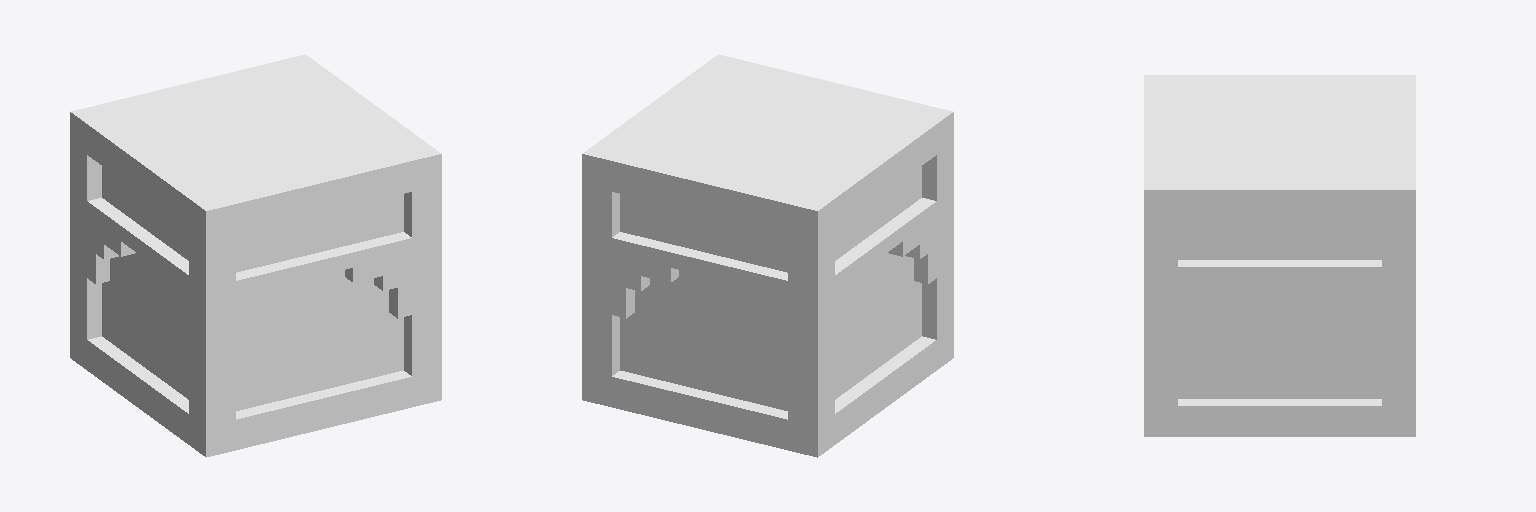
Rendered from single.obj.
3 views of the same model, side by side, from view 1: azimuth 30°, elevation 25°; view 2: azimuth 150°, elevation 25°; view 3: azimuth 270°, elevation 25° (orthographic).
Size of the model in its own units: 1 by 1 by 1.